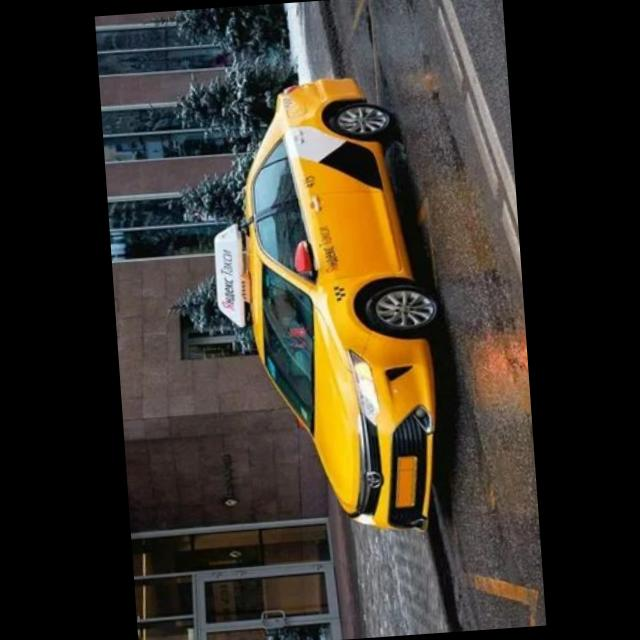taxi: (201, 70, 459, 547)
